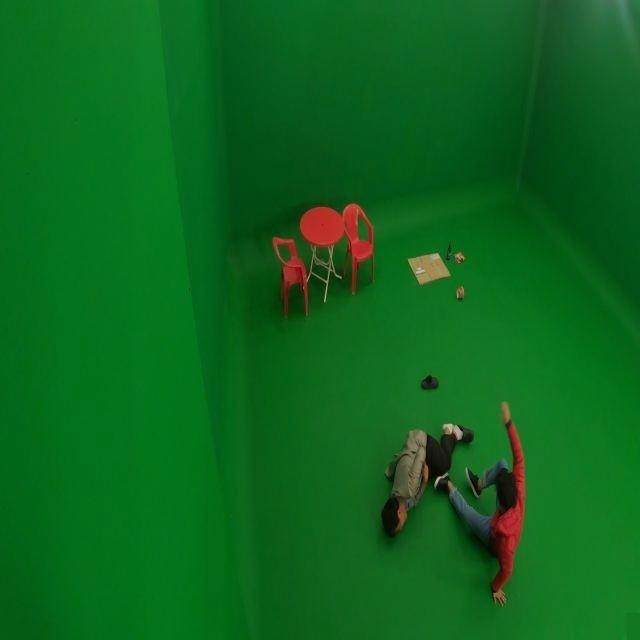fight: (379, 393, 527, 611)
